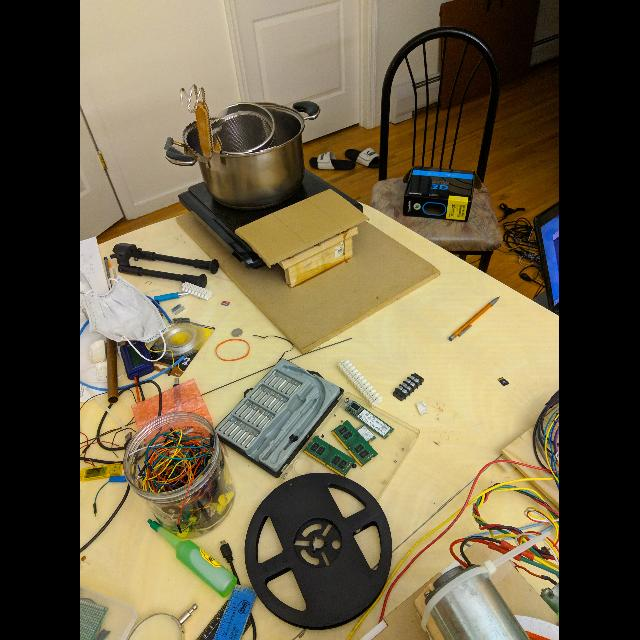Handle: (169, 84, 227, 162)
Strainer: (202, 100, 276, 152)
